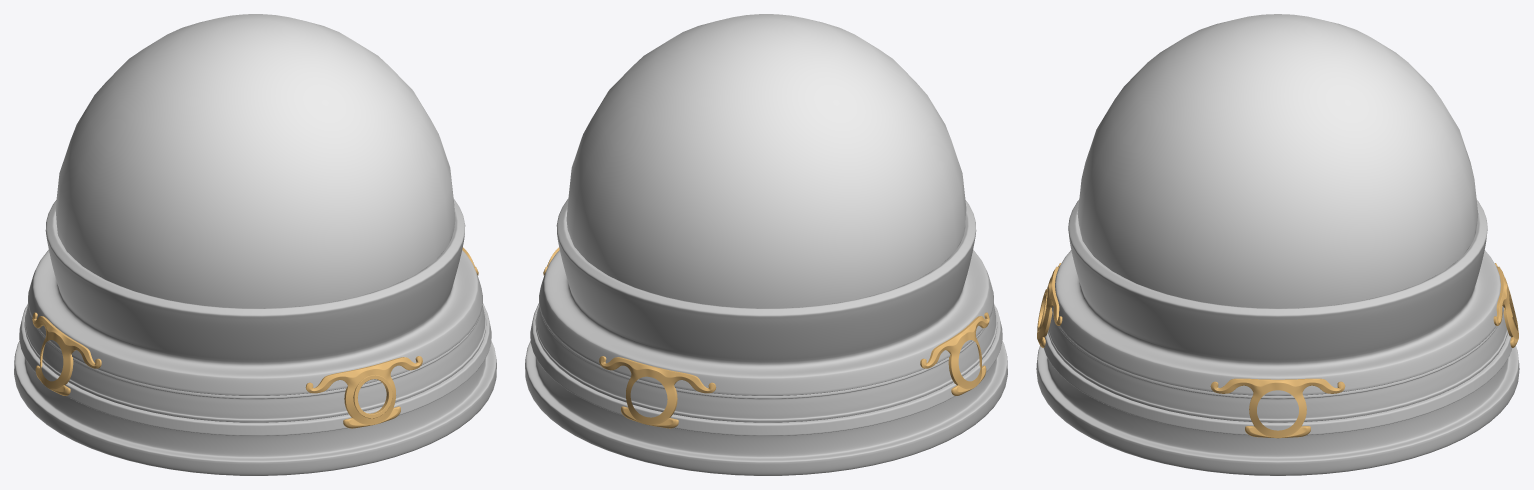
Rendered from globe.fbx.
The picture shows the model from 3 angles, left to right: view 1: azimuth 30°, elevation 25°; view 2: azimuth 150°, elevation 25°; view 3: azimuth 270°, elevation 25°; orthographic projection.
Visible parts, largest first — view 1: Globe.001, Base.001, Season Ring.001, Cylinder.003, Cylinder.002; view 2: Globe.001, Base.001, Season Ring.001, Cylinder.003; view 3: Globe.001, Base.001, Season Ring.001, Cylinder.003.
Boxes of the visible parts, left/top/right/bottom form: Globe.001: left=55, top=14, right=455, bottom=308; Base.001: left=14, top=199, right=496, bottom=475; Season Ring.001: left=24, top=304, right=486, bottom=422; Cylinder.003: left=32, top=247, right=478, bottom=428; Cylinder.002: left=353, top=375, right=392, bottom=418; Globe.001: left=566, top=14, right=966, bottom=308; Base.001: left=525, top=199, right=1007, bottom=475; Season Ring.001: left=535, top=304, right=997, bottom=422; Cylinder.003: left=543, top=247, right=989, bottom=428; Globe.001: left=1077, top=14, right=1478, bottom=308; Base.001: left=1036, top=199, right=1519, bottom=475; Season Ring.001: left=1048, top=312, right=1507, bottom=422; Cylinder.003: left=1037, top=263, right=1518, bottom=438.
Size of the model in its own units: 345 by 286 by 345.
